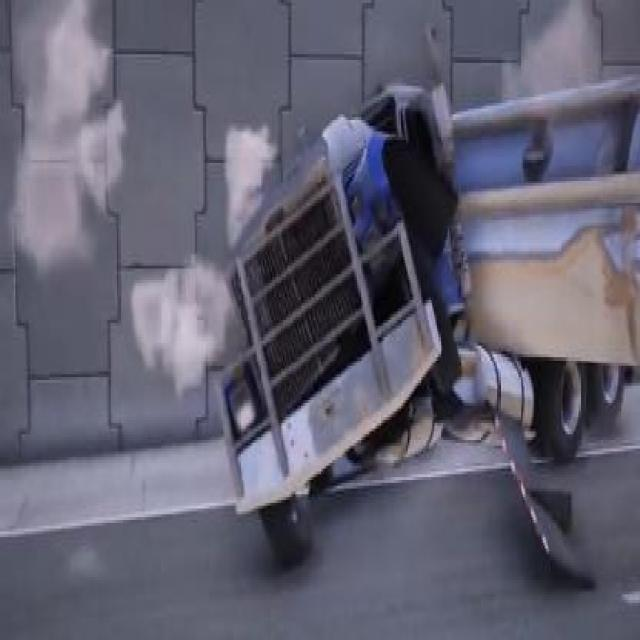accident: (195, 46, 640, 588)
